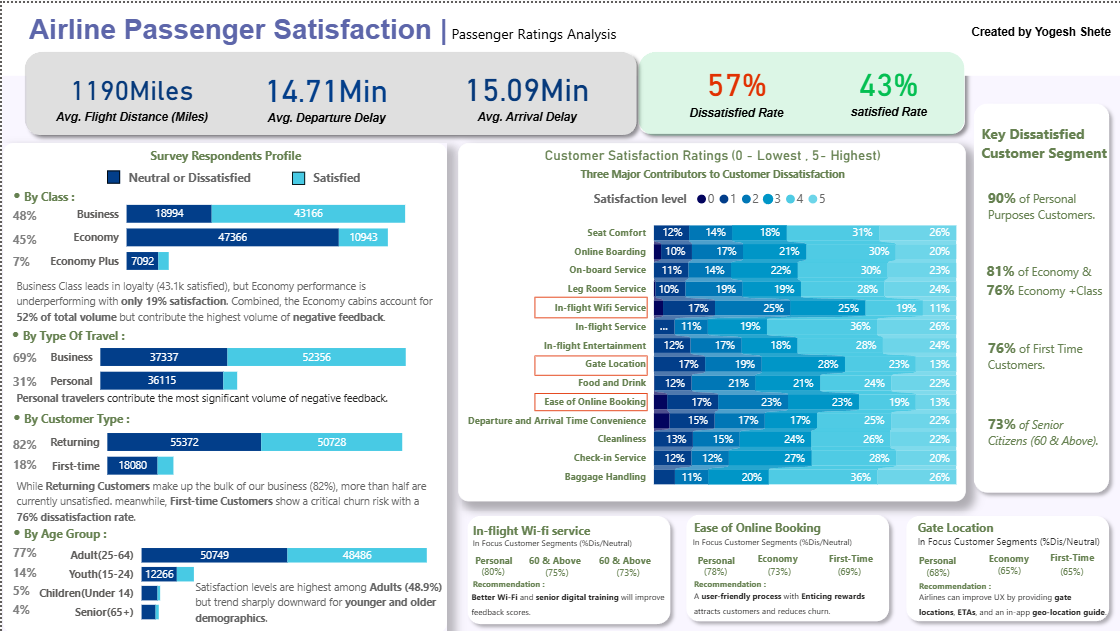

Layout of this report page (visuals, bound fields, positions):
{"tool":"powerbi","page":{"name":"Page 1","canvas":[1280,720],"ordinal":0},"visuals":[{"type":"shape","box":[716.9,46.2,392.5,113.1],"z":0},{"type":"shape","box":[0,0,1280,83.3],"z":1000},{"type":"shape","box":[18.6,47.1,715.7,112.9],"z":2000},{"type":"shape","box":[727.5,55.6,373.1,96.2],"z":3000},{"type":"shape","box":[1.4,160,507.1,560],"z":4000},{"type":"barChart","fields":{"Category":["airline_passenger_satisfaction.Type of Travel"],"Y":["CountNonNull(airline_passenger_satisfaction.Satisfaction)"],"Series":["airline_passenger_satisfaction.Satisfaction"]},"box":[48.2,357.3,458.2,115.5],"z":5000},{"type":"barChart","fields":{"Series":["airline_passenger_satisfaction.Satisfaction"],"Category":["airline_passenger_satisfaction.Customer Type"],"Y":["CountNonNull(airline_passenger_satisfaction.Satisfaction)"]},"box":[48.2,454.5,458.2,115.5],"z":6000},{"type":"barChart","fields":{"Series":["airline_passenger_satisfaction.Satisfaction"],"Y":["CountNonNull(airline_passenger_satisfaction.Satisfaction)","select"],"Category":["airline_passenger_satisfaction.Class"]},"box":[48.8,207.5,457.5,115],"z":7000},{"type":"barChart","fields":{"Y":["CountNonNull(ages.Satisfaction)"],"Category":["ages.age_group"],"Series":["ages.Satisfaction"]},"box":[35.8,600.8,457.5,117.5],"z":8000},{"type":"hundredPercentStackedBarChart","title":"Customer Satisfaction Ratings (0 - Lowest , 5- Highest)","fields":{"Y":["Services.Show Total"],"Category":["Services.Service"],"Series":["Services.Value"]},"box":[521.2,160.5,579.7,409.3],"z":9000},{"type":"card","fields":{"Values":["Avg(airline_passenger_satisfaction.Arrival Delay)"]},"box":[508.6,54.3,182.9,98.6],"z":10000},{"type":"card","fields":{"Values":["select","Services.Dissatisfied %"]},"box":[765.7,51.4,147.1,94.3],"z":11000},{"type":"textbox","box":[0,198.3,120,40],"z":12000},{"type":"textbox","box":[0,356.7,147.5,40],"z":13000},{"type":"textbox","box":[0,583.3,169.2,40.8],"z":14000},{"type":"textbox","box":[0,451.7,197.5,45.8],"z":15000},{"type":"shape","box":[522.5,576.7,250,141.7],"z":16000},{"type":"textbox","box":[0,228.8,102.4,30],"z":17000},{"type":"textbox","box":[0,255.2,102.4,30],"z":18000},{"type":"textbox","box":[0,281.6,101.6,30],"z":19000},{"type":"textbox","box":[0,392,102,30],"z":20000},{"type":"textbox","box":[0.4,418.8,102.1,30],"z":21000},{"type":"textbox","box":[0,490,101.8,30],"z":22000},{"type":"textbox","box":[0,512.7,101.8,31.8],"z":23000},{"type":"textbox","box":[0,614.5,102,30],"z":24000},{"type":"textbox","box":[0,637.5,102,30],"z":25000},{"type":"textbox","box":[0,657.1,101.8,30],"z":26000},{"type":"textbox","box":[0,678.8,101.8,30],"z":27000},{"type":"card","fields":{"Values":["select","Services.satisfied %"]},"box":[940,58.6,147.1,78.6],"z":28000},{"type":"card","fields":{"Values":["select","Avg(airline_passenger_satisfaction.Flight Distance)"]},"box":[55.7,68.6,185.7,74.3],"z":29000},{"type":"textbox","box":[10.8,308.5,494.6,67.7],"z":30000},{"type":"textbox","box":[10.8,436.9,497.7,33.8],"z":31000},{"type":"textbox","box":[10.8,537.7,494.6,64.6],"z":32000},{"type":"textbox","box":[105,160,300,41.2],"z":33000},{"type":"shape","box":[120,191.2,15,15],"z":34000},{"type":"textbox","box":[135,185,157.5,32.5],"z":35000},{"type":"shape","box":[331.2,192.5,15,15],"z":36000},{"type":"textbox","box":[346.2,185,73.8,32.5],"z":37000},{"type":"textbox","box":[215.8,653.3,302.5,64.2],"z":38000},{"type":"shape","box":[25.6,55.6,701.9,96.2],"z":39000},{"type":"shape","box":[772.7,576.4,250,140],"z":40000},{"type":"card","fields":{"Values":["Avg(airline_passenger_satisfaction.Departure Delay)"]},"box":[265.7,65.7,210,78.6],"z":41000},{"type":"shape","box":[608.5,445.4,129.2,20.8],"z":42000},{"type":"shape","box":[608.5,336.2,129.2,24.6],"z":43000},{"type":"shape","box":[608.5,403.1,129.2,23.1],"z":44000},{"type":"textbox","box":[532.7,588,145.3,30],"z":45000},{"type":"textbox","box":[785.5,586.4,181.8,30],"z":46000},{"type":"shape","box":[1101,106,173,463],"z":47000},{"type":"textbox","box":[1114.3,132.9,165.7,107.1],"z":48000},{"type":"textbox","box":[1121,206,143,63],"z":49000},{"type":"textbox","box":[1119.6,289.8,144.3,77.1],"z":50000},{"type":"textbox","box":[1120.8,376.9,144.3,63.4],"z":51000},{"type":"textbox","box":[1120.8,464,144.3,62.2],"z":52000},{"type":"textbox","box":[533.3,602,194,30.7],"z":53000},{"type":"textbox","box":[535.3,622,64.7,30.7],"z":54000},{"type":"textbox","box":[596.7,622,78,27.3],"z":55000},{"type":"textbox","box":[677.8,621.7,78.3,27.8],"z":56000},{"type":"textbox","box":[542.2,634.4,40.6,30],"z":57000},{"type":"textbox","box":[615,636.1,40.6,30],"z":58000},{"type":"textbox","box":[696.7,635,40.6,30],"z":59000},{"type":"textbox","box":[784.7,600.7,195.3,30],"z":60000},{"type":"textbox","box":[789.3,622,65.3,30.7],"z":61000},{"type":"textbox","box":[858.7,620,65.3,30.7],"z":62000},{"type":"textbox","box":[939.3,620.7,70.7,31.3],"z":63000},{"type":"textbox","box":[797.3,633.6,41.8,30],"z":64000},{"type":"textbox","box":[870,633.6,41.8,30],"z":65000},{"type":"textbox","box":[950,634.5,41.8,30],"z":66000},{"type":"textbox","box":[533.6,647.9,120,31.4],"z":67000},{"type":"shape","box":[1024.2,576.7,250,138.3],"z":68000},{"type":"textbox","box":[1040.8,585.8,181.7,30],"z":69000},{"type":"textbox","box":[1040.9,600,227.3,30],"z":70000},{"type":"textbox","box":[1043.3,621.7,65.8,30.8],"z":71000},{"type":"textbox","box":[1123.3,620,65.8,30.8],"z":72000},{"type":"textbox","box":[1193.3,619.2,70.8,30.8],"z":73000},{"type":"textbox","box":[1051.7,635,41.7,30],"z":74000},{"type":"textbox","box":[1133.3,633.3,41.7,30],"z":75000},{"type":"textbox","box":[1204.2,634.2,41.7,30],"z":76000},{"type":"textbox","title":"Recommendetion","box":[531.4,662.9,237.1,49.3],"z":77000},{"type":"textbox","title":"Recommendetion","box":[785.8,661.7,227.5,50],"z":78000},{"type":"textbox","box":[786,648.7,120,31.3],"z":79000},{"type":"textbox","box":[1043.3,650.7,120,31.3],"z":80000},{"type":"textbox","title":"Recommendetion","box":[1042.7,663.3,227.3,50],"z":81000},{"type":"textbox","box":[25,6.7,845,70],"z":82000},{"type":"textbox","box":[1103.3,18.3,176.7,46.7],"z":83000}]}

Visuals, with their boxes in screenshot pixels (x1, y1, x2, y2), scaled from the page's 1280x720 canvas onto the 1120x631 screenshot:
shape: rect(627, 40, 971, 140)
shape: rect(0, 0, 1119, 73)
shape: rect(16, 41, 643, 140)
shape: rect(637, 49, 963, 133)
shape: rect(1, 140, 445, 630)
barChart - airline_passenger_satisfaction.Type of Travel x CountNonNull(airline_passenger_satisfaction.Satisfaction): rect(42, 313, 443, 414)
barChart - airline_passenger_satisfaction.Satisfaction x airline_passenger_satisfaction.Customer Type: rect(42, 398, 443, 500)
barChart - airline_passenger_satisfaction.Satisfaction x CountNonNull(airline_passenger_satisfaction.Satisfaction): rect(43, 182, 443, 283)
barChart - CountNonNull(ages.Satisfaction) x ages.age_group: rect(31, 527, 432, 630)
"Customer Satisfaction Ratings (0 - Lowest , 5- Highest)" hundredPercentStackedBarChart: rect(456, 141, 963, 499)
card - Avg(airline_passenger_satisfaction.Arrival Delay): rect(445, 48, 605, 134)
card - select x Services.Dissatisfied %: rect(670, 45, 799, 128)
textbox: rect(0, 174, 105, 209)
textbox: rect(0, 313, 129, 348)
textbox: rect(0, 511, 148, 547)
textbox: rect(0, 396, 173, 436)
shape: rect(457, 505, 676, 630)
textbox: rect(0, 201, 90, 227)
textbox: rect(0, 224, 90, 250)
textbox: rect(0, 247, 89, 273)
textbox: rect(0, 344, 89, 370)
textbox: rect(0, 367, 90, 393)
textbox: rect(0, 429, 89, 456)
textbox: rect(0, 449, 89, 477)
textbox: rect(0, 539, 89, 565)
textbox: rect(0, 559, 89, 585)
textbox: rect(0, 576, 89, 602)
textbox: rect(0, 595, 89, 621)
card - select x Services.satisfied %: rect(822, 51, 951, 120)
card - select x Avg(airline_passenger_satisfaction.Flight Distance): rect(49, 60, 211, 125)
textbox: rect(9, 270, 442, 330)
textbox: rect(9, 383, 445, 413)
textbox: rect(9, 471, 442, 528)
textbox: rect(92, 140, 354, 176)
shape: rect(105, 168, 118, 181)
textbox: rect(118, 162, 256, 191)
shape: rect(290, 169, 303, 182)
textbox: rect(303, 162, 368, 191)
textbox: rect(189, 573, 454, 629)
shape: rect(22, 49, 637, 133)
shape: rect(676, 505, 895, 628)
card - Avg(airline_passenger_satisfaction.Departure Delay): rect(232, 58, 416, 126)
shape: rect(532, 390, 645, 409)
shape: rect(532, 295, 645, 316)
shape: rect(532, 353, 645, 374)
textbox: rect(466, 515, 593, 542)
textbox: rect(687, 514, 846, 540)
shape: rect(963, 93, 1115, 499)
textbox: rect(975, 116, 1119, 210)
textbox: rect(981, 181, 1106, 236)
textbox: rect(980, 254, 1106, 322)
textbox: rect(981, 330, 1107, 386)
textbox: rect(981, 407, 1107, 461)
textbox: rect(467, 528, 636, 554)
textbox: rect(468, 545, 525, 572)
textbox: rect(522, 545, 590, 569)
textbox: rect(593, 545, 662, 569)
textbox: rect(474, 556, 510, 582)
textbox: rect(538, 557, 574, 584)
textbox: rect(610, 557, 645, 583)
textbox: rect(687, 526, 858, 553)
textbox: rect(691, 545, 748, 572)
textbox: rect(751, 543, 808, 570)
textbox: rect(822, 544, 884, 571)
textbox: rect(698, 555, 734, 582)
textbox: rect(761, 555, 798, 582)
textbox: rect(831, 556, 868, 582)
textbox: rect(467, 568, 572, 595)
shape: rect(896, 505, 1115, 627)
textbox: rect(911, 513, 1070, 540)
textbox: rect(911, 526, 1110, 552)
textbox: rect(913, 545, 970, 572)
textbox: rect(983, 543, 1040, 570)
textbox: rect(1044, 543, 1106, 570)
textbox: rect(920, 557, 957, 583)
textbox: rect(992, 555, 1028, 581)
textbox: rect(1054, 556, 1090, 582)
"Recommendetion" textbox: rect(465, 581, 672, 624)
"Recommendetion" textbox: rect(688, 580, 887, 624)
textbox: rect(688, 569, 793, 596)
textbox: rect(913, 570, 1018, 598)
"Recommendetion" textbox: rect(912, 581, 1111, 625)
textbox: rect(22, 6, 761, 67)
textbox: rect(965, 16, 1119, 57)
